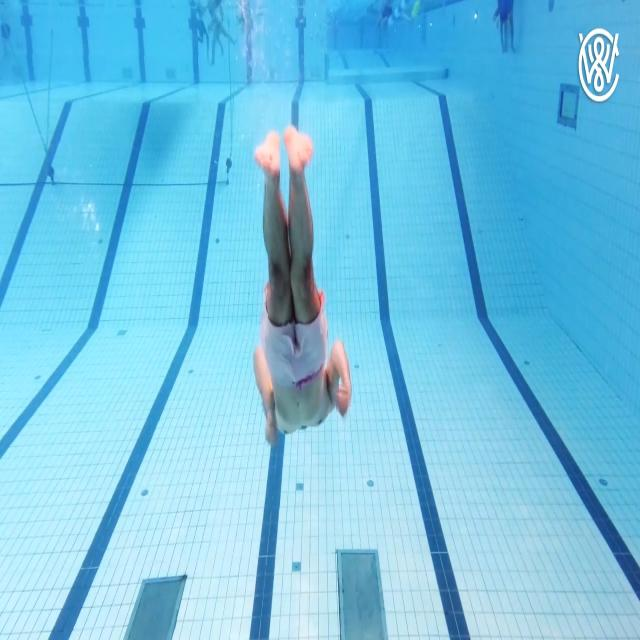Swimming: (253, 124, 353, 447)
